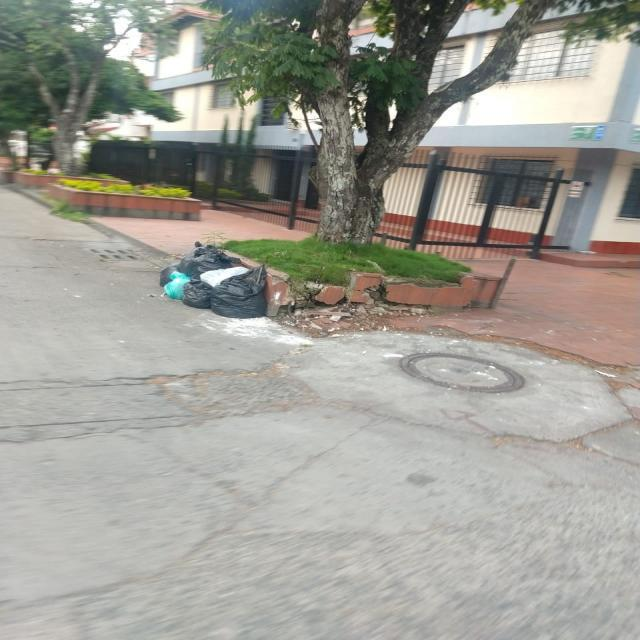Trashbag: (216, 270, 266, 321), (159, 243, 229, 277), (180, 279, 213, 311)
